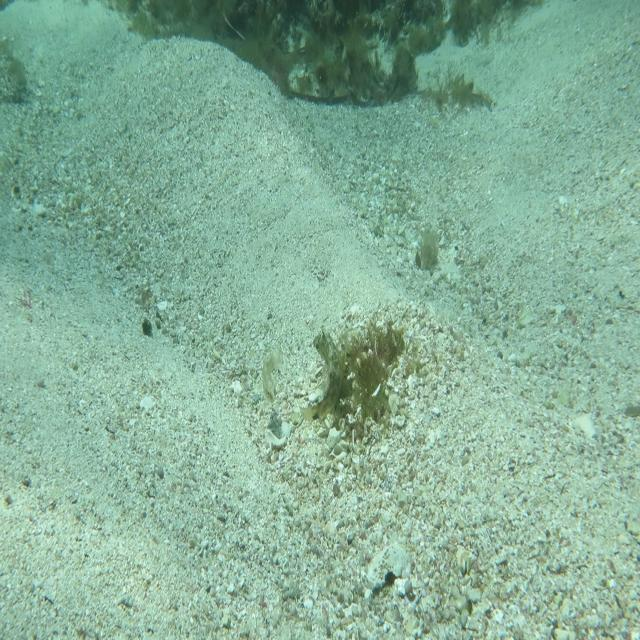BEND: (298, 321, 347, 437)
female: (257, 340, 286, 412)
nest: (296, 310, 409, 442)
vegetation: (110, 0, 516, 45), (236, 50, 415, 107), (409, 226, 438, 279)
